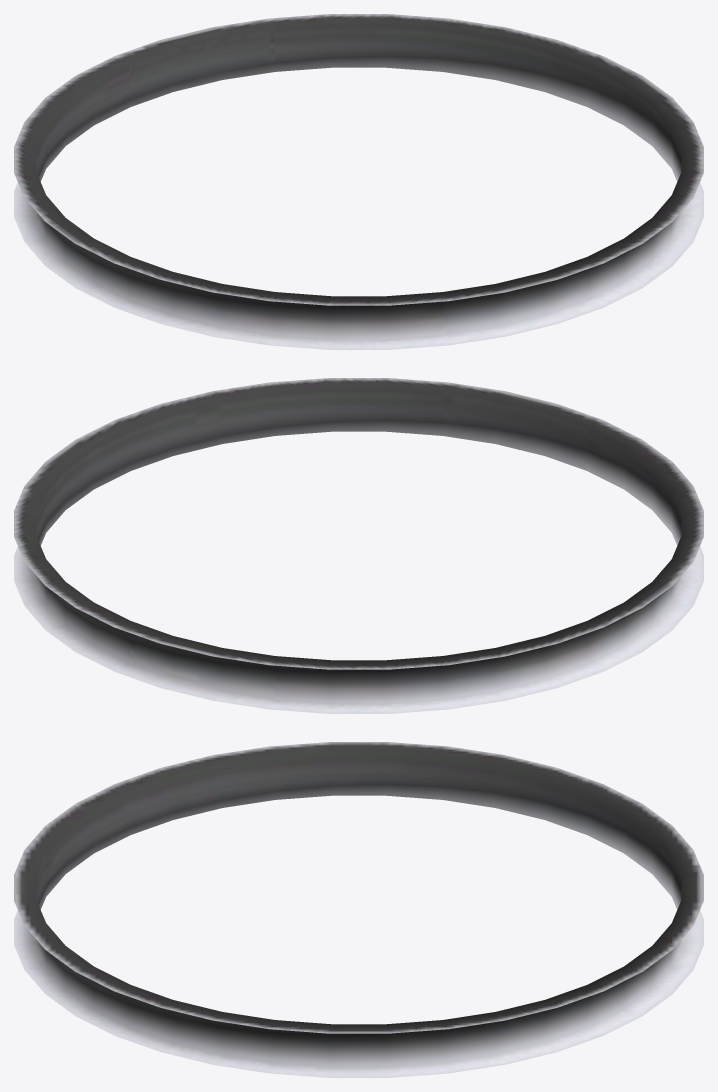
File: LightAmbient.DAE
3 views of the same model, one above another, from view 1: azimuth 30°, elevation 25°; view 2: azimuth 150°, elevation 25°; view 3: azimuth 270°, elevation 25° (orthographic).
Visible parts, largest first — view 1: Ring_PIVOT; view 2: Ring_PIVOT; view 3: Ring_PIVOT.
Boxes of the visible parts, x1,y1,x2,y2 form: Ring_PIVOT: (14,14,703,349); Ring_PIVOT: (14,378,703,713); Ring_PIVOT: (14,742,703,1077).
Bounding box in the file's own units: 0.8908 × 0.8907 × 0.063.
Materials: 1 (1 with a texture image).
